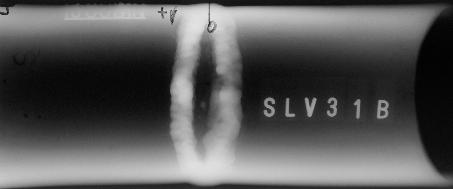FF: (168, 100, 180, 130), (170, 137, 184, 157)
PO: (172, 69, 178, 73)
